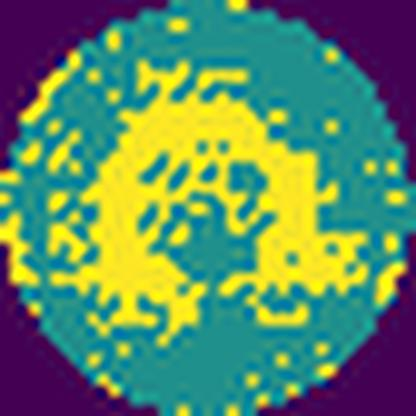Donut: (51, 47, 382, 352)
